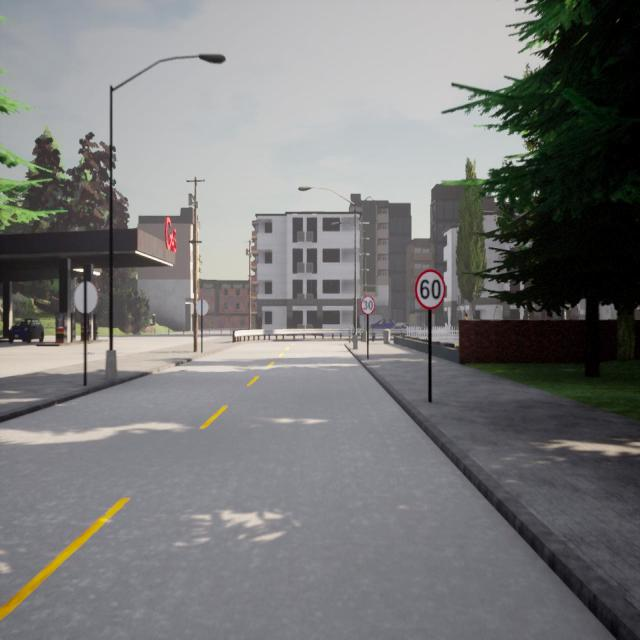Traffic_Signs: (415, 270, 445, 308), (73, 282, 98, 314), (360, 294, 376, 315), (196, 299, 208, 316)
Vehicle: (8, 318, 44, 342), (370, 320, 394, 328), (392, 322, 412, 328), (464, 312, 469, 320)
